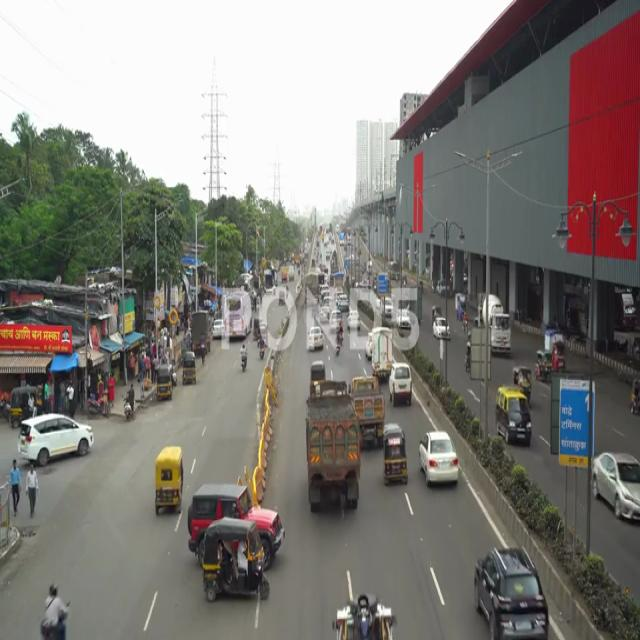car: (478, 552, 549, 640), (19, 414, 100, 466), (592, 446, 640, 532), (419, 422, 462, 494), (152, 438, 187, 522), (496, 383, 534, 453), (388, 356, 416, 404)
rikshaw: (382, 420, 408, 488)
truck: (305, 366, 360, 519)
